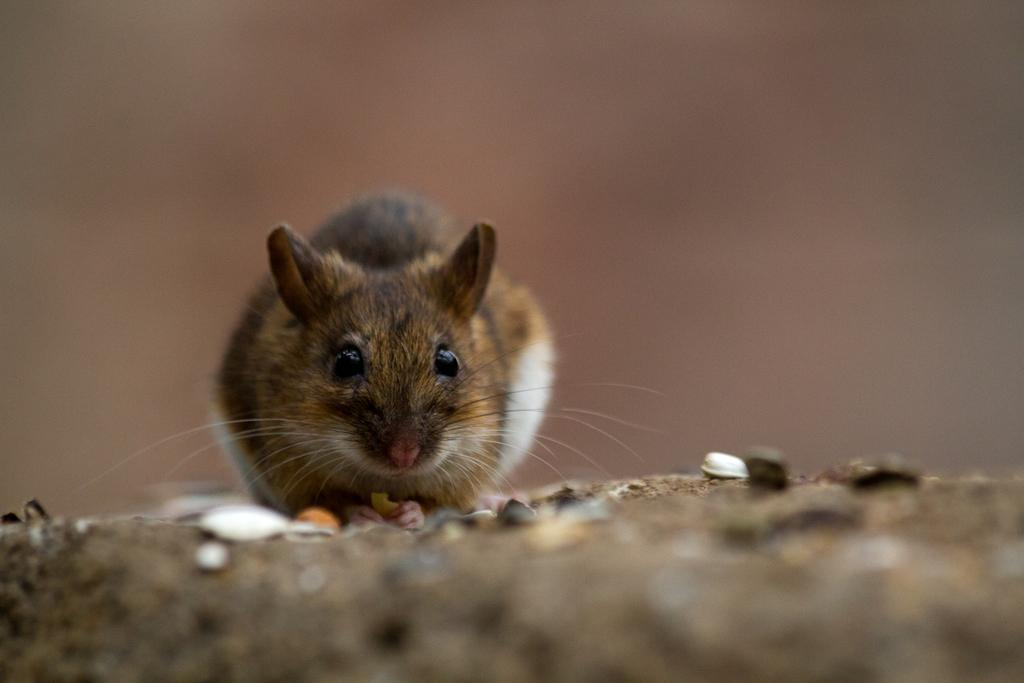mouse: (210, 190, 557, 537)
